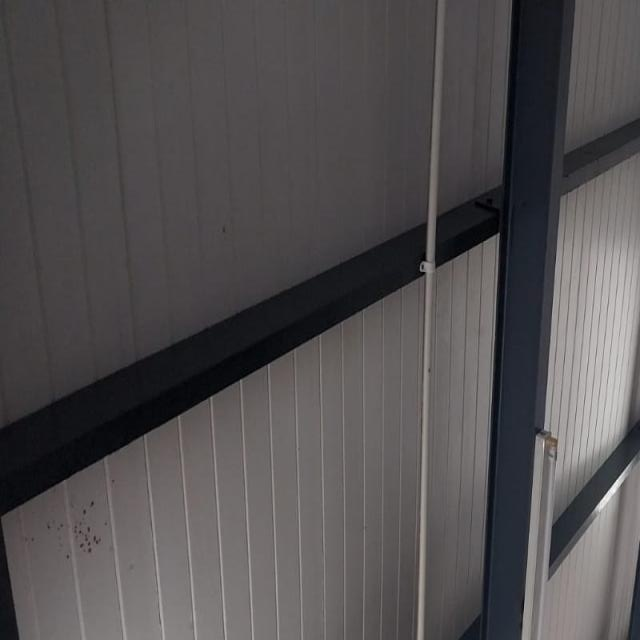fluorescent tube: (492, 419, 580, 640)
